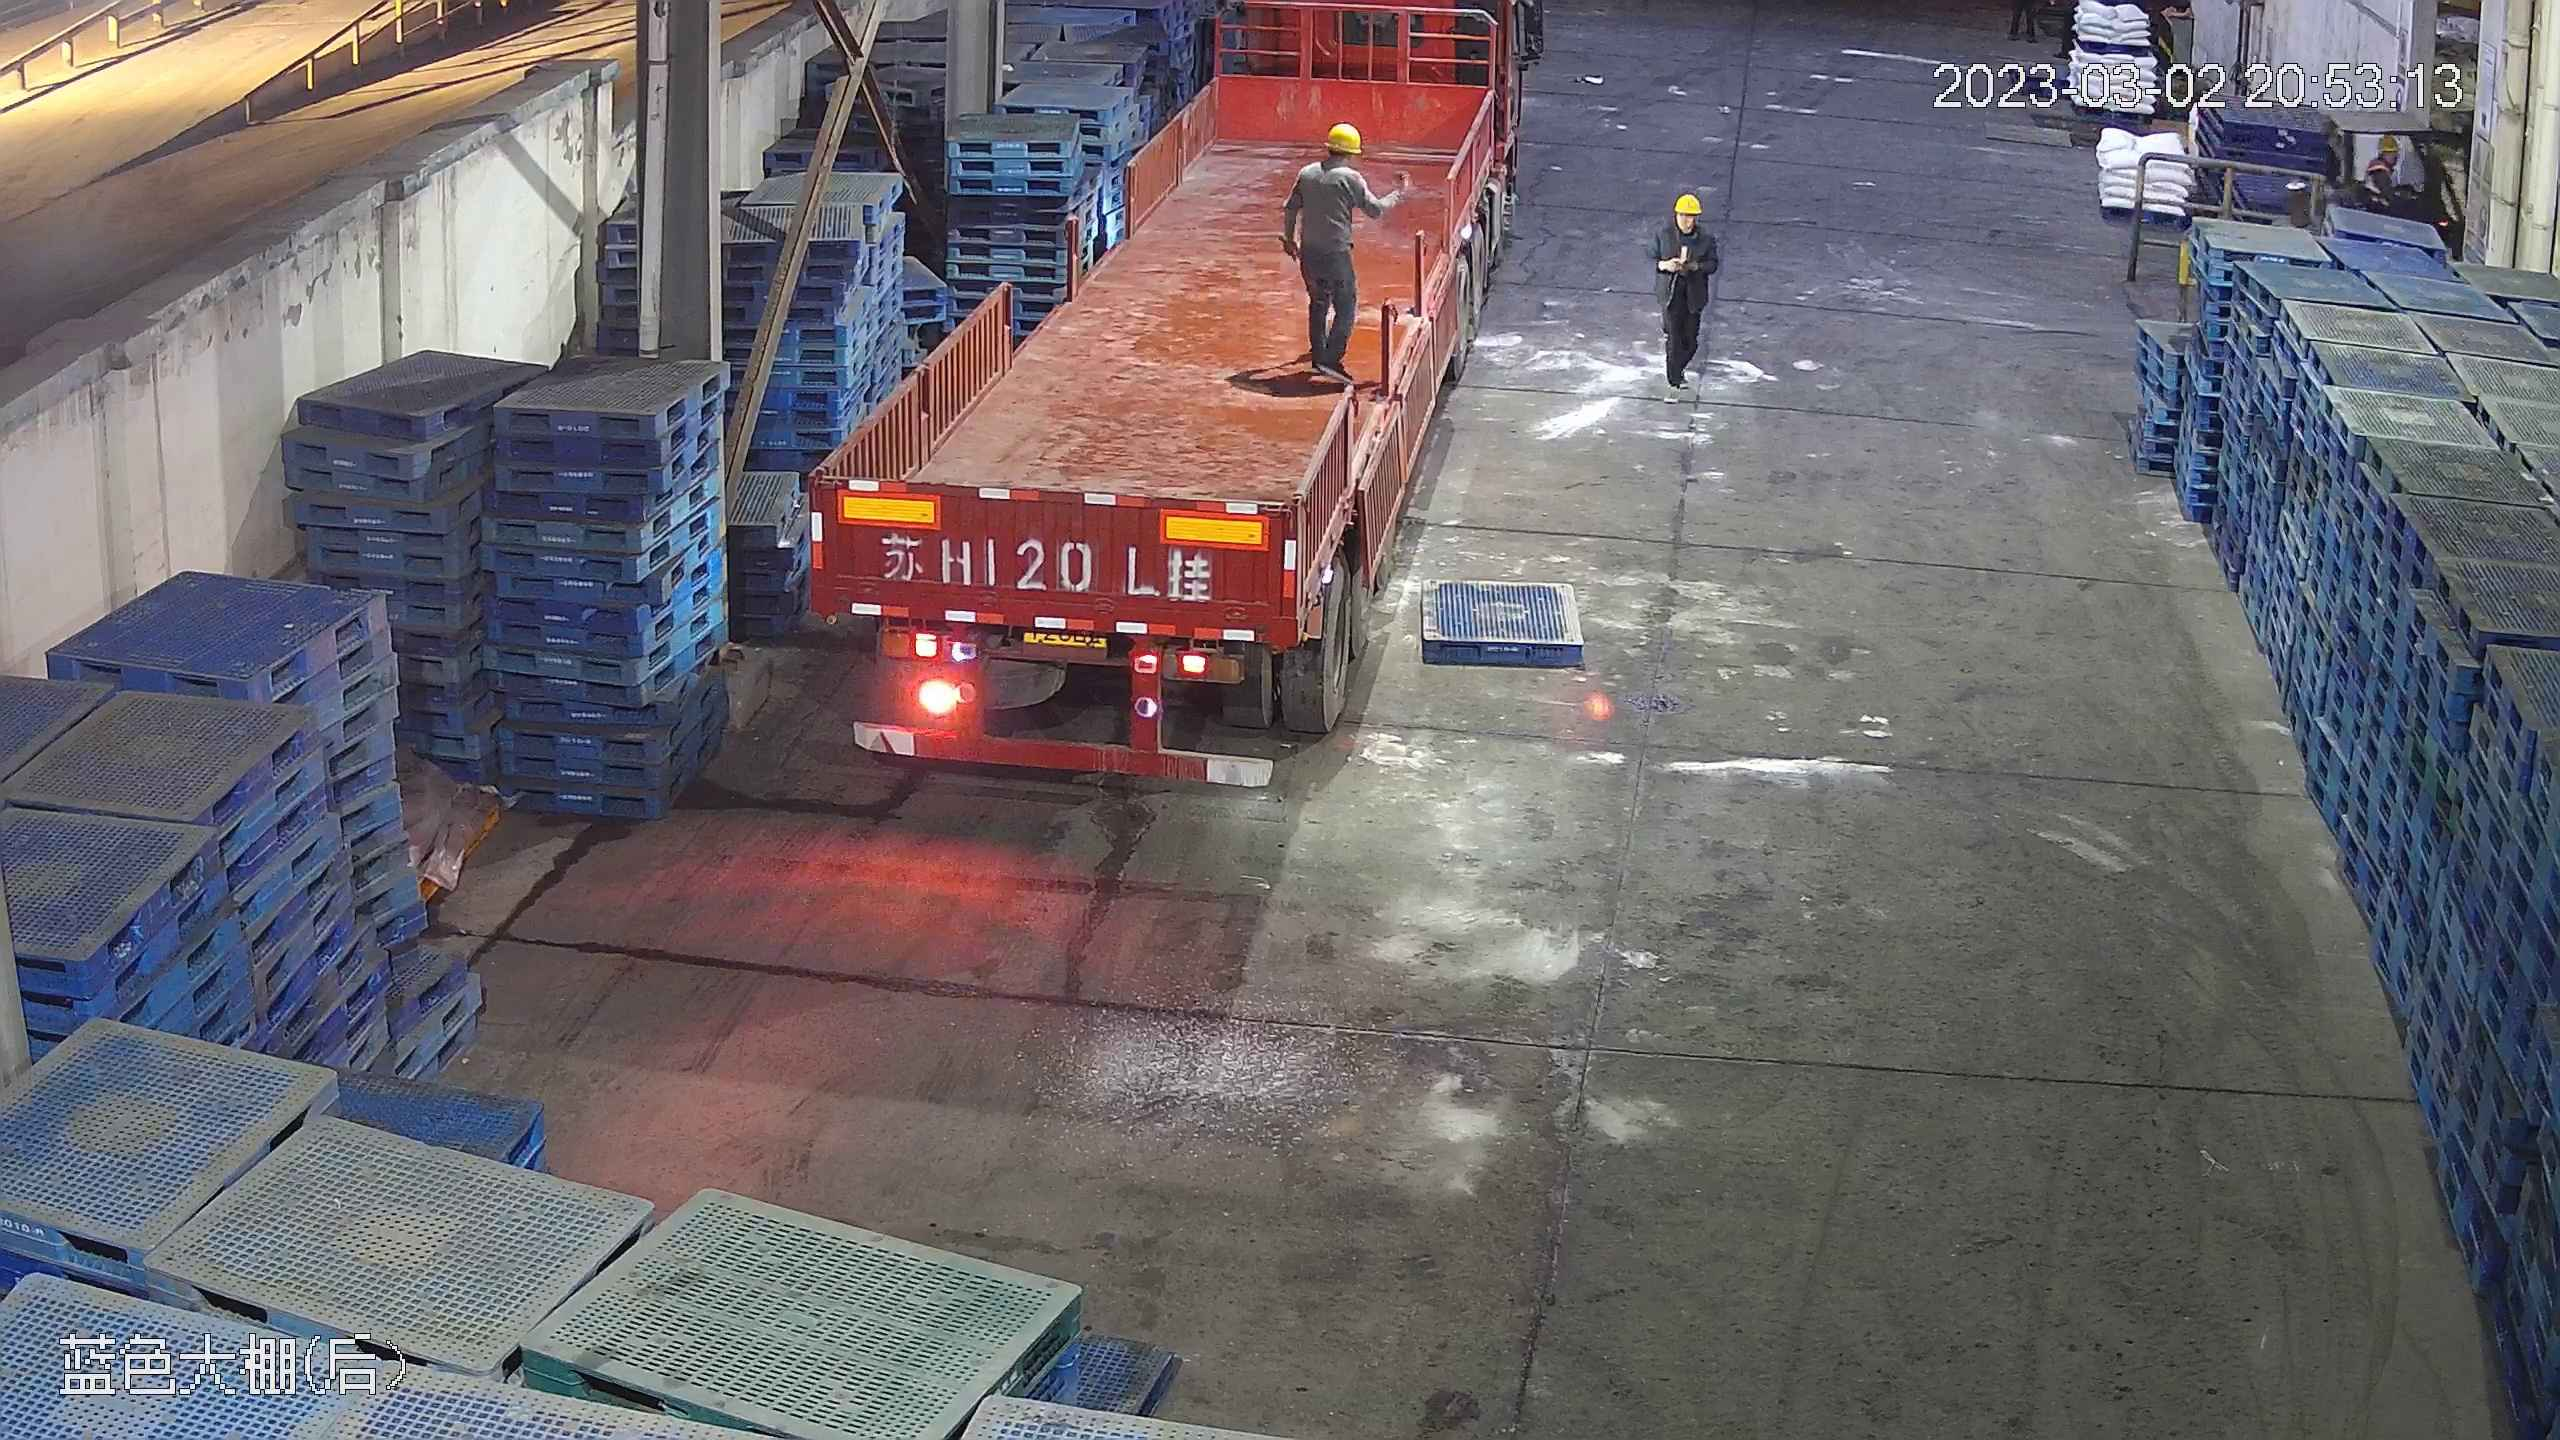head: (1294, 122, 1372, 201), (1657, 190, 1716, 251)
helmet: (1322, 121, 1364, 154), (1671, 190, 1702, 214)
people: (1280, 118, 1383, 382), (1647, 186, 1719, 391)
truck: (799, 4, 1522, 777)
